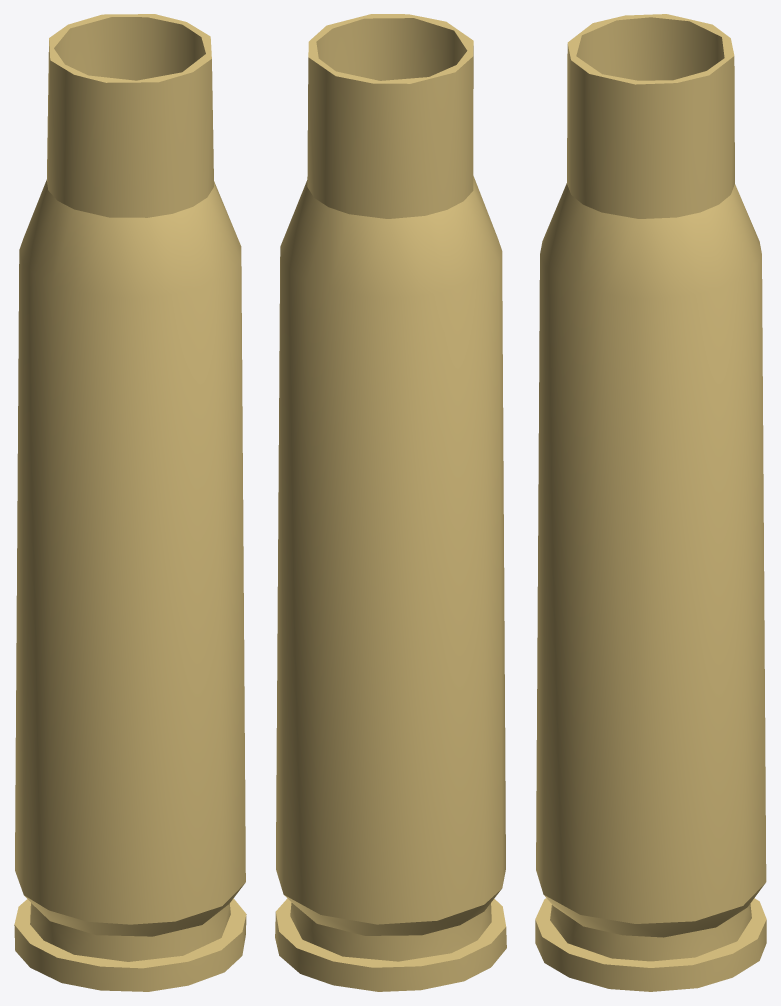
File: 7,62x51_NATO_Case.fbx
3 views of the same model, side by side, from view 1: azimuth 30°, elevation 25°; view 2: azimuth 150°, elevation 25°; view 3: azimuth 270°, elevation 25° (orthographic).
Visible parts, largest first — view 1: 7,62x51_NATO_Case; view 2: 7,62x51_NATO_Case; view 3: 7,62x51_NATO_Case.
Boxes of the visible parts, x1=… form: 7,62x51_NATO_Case: x1=14, y1=14, x2=246, y2=991; 7,62x51_NATO_Case: x1=275, y1=14, x2=506, y2=991; 7,62x51_NATO_Case: x1=535, y1=14, x2=766, y2=991.
Size of the model in its own units: 1.2 by 5.12 by 1.2.
